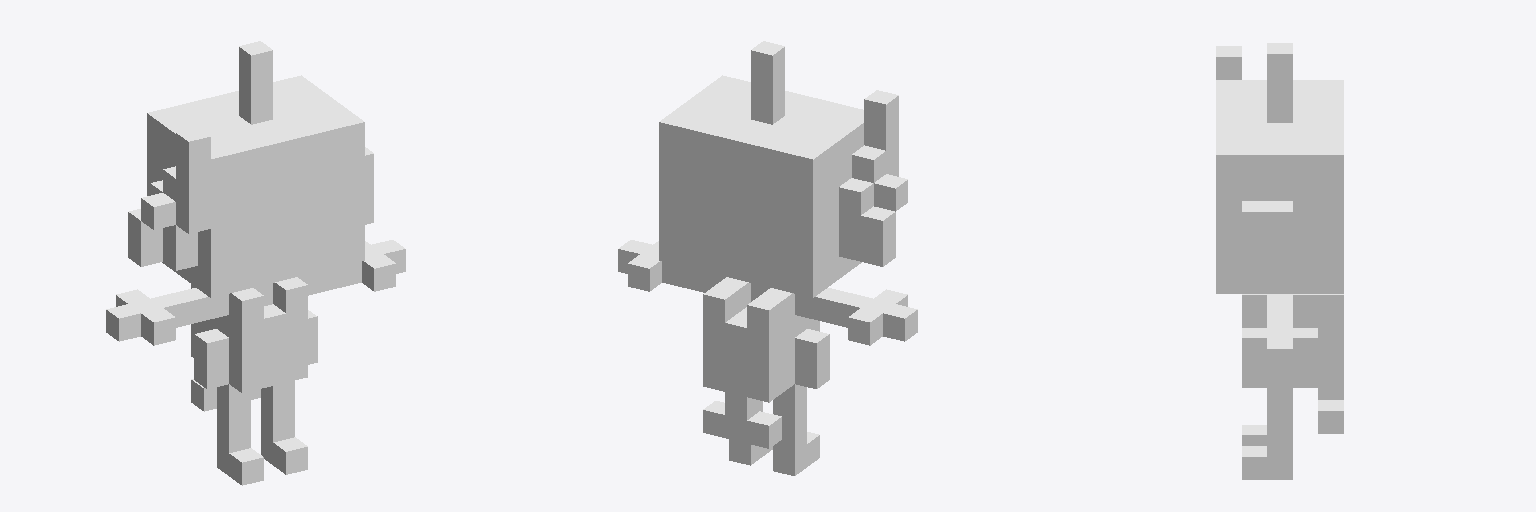
File: robo_kari5.obj
3 views of the same model, side by side, from view 1: azimuth 30°, elevation 25°; view 2: azimuth 150°, elevation 25°; view 3: azimuth 270°, elevation 25° (orthographic).
Parts seen in each view (by area): view 1: object 1; view 2: object 1; view 3: object 1.
Boxes of the visible parts, <box> form: object 1: <box>106,41,405,485</box>; object 1: <box>618,41,917,475</box>; object 1: <box>1216,43,1343,479</box>.
Bounding box in the file's own units: 1.3 × 1.8 × 0.5.